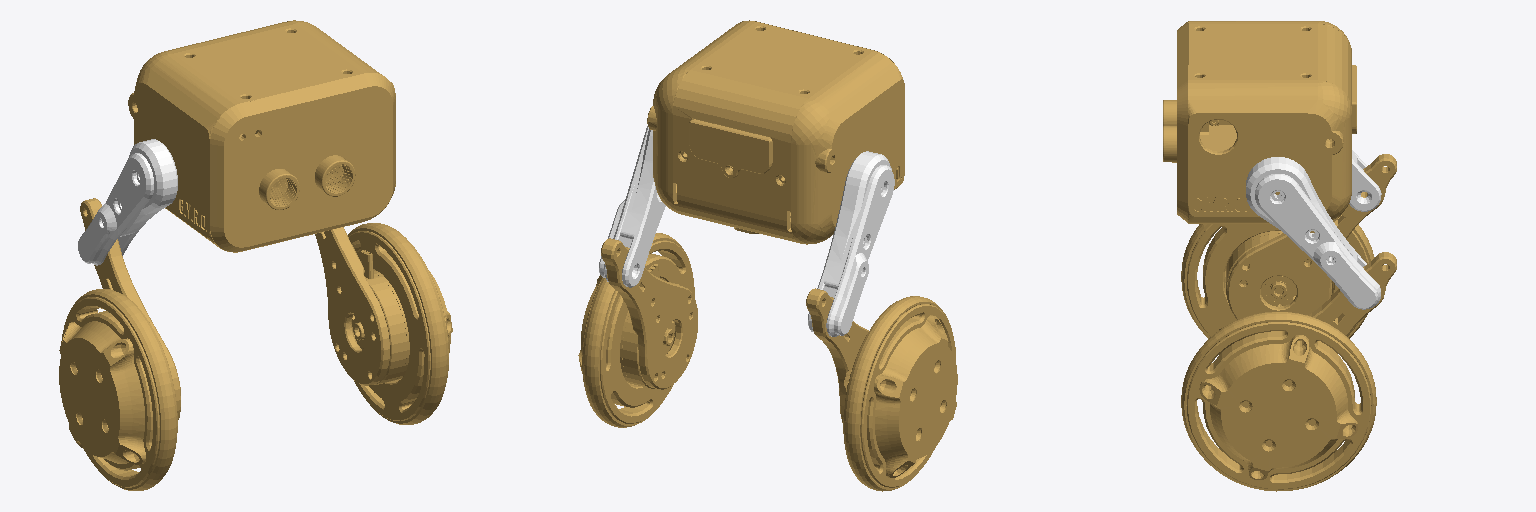
URDF robot description (final_assem2):
<?xml version="1.0" encoding="utf-8"?>
<!-- This URDF was automatically created by SolidWorks to URDF Exporter! Originally created by Stephen Brawner (brawner@gmail.com) 
     Commit Version: 1.6.0-4-g7f85cfe  Build Version: 1.6.7995.38578
     For more information, please see http://wiki.ros.org/sw_urdf_exporter -->
<robot
  name="final_assem2">
  <link
    name="base_link">
    <inertial>
      <origin
        xyz="-0.000139721801499459 -0.00891990633481813 0.0545743288252821"
        rpy="0 0 0" />
      <mass
        value="0.0001" />
      <inertia
        ixx="0.000101651221165473"
        ixy="-5.03027315623083E-07"
        ixz="-3.1472039365138E-07"
        iyy="8.30155851187896E-05"
        iyz="-1.16211310714731E-07"
        izz="7.63971955831707E-05" />
    </inertial>
    <visual>
      <origin
        xyz="0 0 0"
        rpy="0 0 0" />
      <geometry>
        <mesh
          filename="package://final_assem2/meshes/base_link.STL" />
      </geometry>
      <material
        name="">
        <color
          rgba="0.831372549019608 0.690196078431373 0.411764705882353 1" />
      </material>
    </visual>
    <collision>
      <origin
        xyz="0 0 0"
        rpy="0 0 0" />
      <geometry>
        <mesh
          filename="package://final_assem2/meshes/base_link.STL" />
      </geometry>
    </collision>
  </link>
  
  
  
  
  <link
    name="left_white_link">
    <inertial>
      <origin
        xyz="-0.00351284827896975 0.014089389436349 -0.0175712720648845"
        rpy="0 0 0" />
      <mass
        value="0.0001" />
      <inertia
        ixx="6.1721720458214E-06"
        ixy="4.6117482237348E-08"
        ixz="-5.94751872255315E-08"
        iyy="3.72985141415E-06"
        iyz="2.54897330664247E-06"
        izz="2.60947543834273E-06" />
    </inertial>
    <visual>
      <origin
        xyz="0 0 0"
        rpy="0 0 0" />
      <geometry>
        <mesh
          filename="package://final_assem2/meshes/left_white_link.STL" />
      </geometry>
      <material
        name="">
        <color
          rgba="1 1 1 1" />
      </material>
    </visual>
    <collision>
      <origin
        xyz="0 0 0"
        rpy="0 0 0" />
      <geometry>
        <mesh
          filename="package://final_assem2/meshes/left_white_link.STL" />
      </geometry>
    </collision>
  </link>
  <joint
    name="left_white_top_joint"
    type="revolute">
    <origin
      xyz="0.054451 -0.00061239 0.048645"
      rpy="0 0 0" />
    <parent
      link="base_link" />
    <child
      link="left_white_link" />
    <axis
      xyz="1 0 0" />
    <limit
      lower="-1.5708"
      upper="1.5708"
      effort="1000"
      velocity="1" />
  </joint>
  <link
    name="left_lower_leg">
    <inertial>
      <origin
        xyz="0.00231170012266655 -0.0227052632231051 -0.0282250918724002"
        rpy="0 0 0" />
      <mass
        value="0.0001" />
      <inertia
        ixx="9.0007542462057E-06"
        ixy="-8.52452741139558E-08"
        ixz="-1.12616251474775E-07"
        iyy="5.41600205355566E-06"
        iyz="-3.44596894822395E-06"
        izz="3.64095364398878E-06" />
    </inertial>
    <visual>
      <origin
        xyz="0 0 0"
        rpy="0 0 0" />
      <geometry>
        <mesh
          filename="package://final_assem2/meshes/left_lower_leg.STL" />
      </geometry>
      <material
        name="">
        <color
          rgba="0.831372549019608 0.690196078431373 0.411764705882353 1" />
      </material>
    </visual>
    <collision>
      <origin
        xyz="0 0 0"
        rpy="0 0 0" />
      <geometry>
        <mesh
          filename="package://final_assem2/meshes/left_lower_leg.STL" />
      </geometry>
    </collision>
  </link>
  <joint
    name="left_white_bottom_joint"
    type="revolute">
    <origin
      xyz="-0.007 0.037419 -0.046903"
      rpy="0 0 0" />
    <parent
      link="left_white_link" />
    <child
      link="left_lower_leg" />
    <axis
      xyz="1 0 0" />
    <limit
      lower="-1.5708"
      upper="1.5708"
      effort="1000"
      velocity="1" />
  </joint>
  <link
    name="left_wheel">
    <inertial>
      <origin
        xyz="0.0163975042440271 1.62206759338895E-06 1.44651305899607E-05"
        rpy="0 0 0" />
      <mass
        value="2.5" />
      <inertia
        ixx="5.18918517052579E-05"
        ixy="1.18719486965528E-09"
        ixz="1.02936141483569E-08"
        iyy="2.85933477088047E-05"
        iyz="-7.16321375599296E-09"
        izz="2.85332892566743E-05" />
    </inertial>
    <visual>
      <origin
        xyz="0 0 0"
        rpy="0 0 0" />
      <geometry>
        <mesh
          filename="package://final_assem2/meshes/left_wheel.STL" />
      </geometry>
      <material
        name="">
        <color
          rgba="0.831372549019608 0.690196078431373 0.411764705882353 1" />
      </material>
    </visual>
    <collision>
      <origin
        xyz="0 0 0"
        rpy="0 0 0" />
      <geometry>
        <mesh
          filename="package://final_assem2/meshes/left_wheel.STL" />
      </geometry>
    </collision>
  </link>
  <joint
    name="left_wheel_joint"
    type="continuous">
    <origin
      xyz="0.0012149 -0.03698 -0.047249"
      rpy="0 0 0" />
    <parent
      link="left_lower_leg" />
    <child
      link="left_wheel" />
    <axis
      xyz="1 0 0" />
    <limit
      effort="1000"
      velocity="20" />
  </joint>
  
  
  
  
  <link
    name="right_white_link">
    <inertial>
      <origin
        xyz="0.00351284814097716 0.0140893887999058 -0.0175712711517945"
        rpy="0 0 0" />
      <mass
        value="0.0001" />
      <inertia
        ixx="6.17217171245867E-06"
        ixy="-4.61174422768703E-08"
        ixz="5.94752484317574E-08"
        iyy="3.729851486379E-06"
        iyz="2.54897310999381E-06"
        izz="2.60947501858956E-06" />
    </inertial>
    <visual>
      <origin
        xyz="0 0 0"
        rpy="0 0 0" />
      <geometry>
        <mesh
          filename="package://final_assem2/meshes/right_white_link.STL" />
      </geometry>
      <material
        name="">
        <color
          rgba="1 1 1 1" />
      </material>
    </visual>
    <collision>
      <origin
        xyz="0 0 0"
        rpy="0 0 0" />
      <geometry>
        <mesh
          filename="package://final_assem2/meshes/right_white_link.STL" />
      </geometry>
    </collision>
  </link>
  <joint
    name="right_white_top_joint"
    type="revolute">
    <origin
      xyz="-0.054549 -0.00061239 0.048645"
      rpy="0 0 0" />
    <parent
      link="base_link" />
    <child
      link="right_white_link" />
    <axis
      xyz="1 0 0" />
    <limit
      lower="-1.5708"
      upper="1.5708"
      effort="1000"
      velocity="1" />
  </joint>
  <link
    name="right_lower_leg">
    <inertial>
      <origin
        xyz="0.00343829959902858 -0.0227052608505364 -0.0282250952504051"
        rpy="0 0 0" />
      <mass
        value="0.0001" />
      <inertia
        ixx="9.00075447641487E-06"
        ixy="8.52453919454247E-08"
        ixz="1.12616172038318E-07"
        iyy="5.41600209857497E-06"
        iyz="-3.44596897863516E-06"
        izz="3.64095387833541E-06" />
    </inertial>
    <visual>
      <origin
        xyz="0 0 0"
        rpy="0 0 0" />
      <geometry>
        <mesh
          filename="package://final_assem2/meshes/right_lower_leg.STL" />
      </geometry>
      <material
        name="">
        <color
          rgba="0.831372549019608 0.690196078431373 0.411764705882353 1" />
      </material>
    </visual>
    <collision>
      <origin
        xyz="0 0 0"
        rpy="0 0 0" />
      <geometry>
        <mesh
          filename="package://final_assem2/meshes/right_lower_leg.STL" />
      </geometry>
    </collision>
  </link>
  <joint
    name="right_white_bottom_joint"
    type="revolute">
    <origin
      xyz="0.00125 0.037419 -0.046903"
      rpy="0 0 0" />
    <parent
      link="right_white_link" />
    <child
      link="right_lower_leg" />
    <axis
      xyz="1 0 0" />
    <limit
      lower="-1.5708"
      upper="1.5708"
      effort="1000"
      velocity="1" />
  </joint>
  <link
    name="right_wheel">
    <inertial>
      <origin
        xyz="-0.0146672527215705 1.25422636613262E-05 7.36024777815703E-06"
        rpy="0 0 0" />
      <mass
        value="2.5" />
      <inertia
        ixx="5.18920350674668E-05"
        ixy="-8.93025684542342E-09"
        ixz="-5.24069237927273E-09"
        iyy="2.85481495298968E-05"
        iyz="-2.68320179417243E-08"
        izz="2.85786707981383E-05" />
    </inertial>
    <visual>
      <origin
        xyz="0 0 0"
        rpy="0 0 0" />
      <geometry>
        <mesh
          filename="package://final_assem2/meshes/right_wheel.STL" />
      </geometry>
      <material
        name="">
        <color
          rgba="0.831372549019608 0.690196078431373 0.411764705882353 1" />
      </material>
    </visual>
    <collision>
      <origin
        xyz="0 0 0"
        rpy="0 0 0" />
      <geometry>
        <mesh
          filename="package://final_assem2/meshes/right_wheel.STL" />
      </geometry>
    </collision>
  </link>
  <joint
    name="right_wheel_joint"
    type="continuous">
    <origin
      xyz="0.0028252 -0.03698 -0.047249"
      rpy="0 0 0" />
    <parent
      link="right_lower_leg" />
    <child
      link="right_wheel" />
    <axis
      xyz="1 0 0" />
    <limit
      effort="1000"
      velocity="20" />
  </joint>
  



  
  

  <!-- Fortress gz_ros2_control plugin -->
  <gazebo>
    <plugin filename="libgz_ros2_control-system.so"
            name="gz_ros2_control::GazeboSimROS2ControlPlugin">
      <parameters>/home/pranav/ros2_ws/install/final_assem2/share/final_assem2/config/controllers.yaml</parameters>
    </plugin>
  </gazebo>

  <!-- Wheel friction -->
  <gazebo reference="left_wheel"><mu1>0.9</mu1><mu2>0.9</mu2><kp>500000</kp><kd>10</kd></gazebo>
  <gazebo reference="right_wheel"><mu1>0.9</mu1><mu2>0.9</mu2><kp>500000</kp><kd>10</kd></gazebo>

  <!-- ========== IMU Sensor (Fortress) ========== -->
  <link name="imu_link">
    <inertial>
      <mass value="0.0001"/>
      <origin xyz="0 0 0" rpy="0 0 0"/>
      <inertia ixx="0.01" ixy="0" ixz="0" iyy="0.01" iyz="0" izz="0.01"/>
    </inertial>
  </link>
  <joint name="imu_joint" type="fixed">
    <parent link="base_link"/>
    <child link="imu_link"/>
    <origin xyz="0 0 0.05" rpy="0 0 0"/>
  </joint>
  <gazebo reference="imu_link">
    <sensor name="imu_sensor" type="imu">
      <always_on>true</always_on>
      <update_rate>100</update_rate>
      <imu>
        <angular_velocity>
          <x><noise type="gaussian"><mean>0</mean><stddev>0.002</stddev></noise></x>
          <y><noise type="gaussian"><mean>0</mean><stddev>0.002</stddev></noise></y>
          <z><noise type="gaussian"><mean>0</mean><stddev>0.002</stddev></noise></z>
        </angular_velocity>
        <linear_acceleration>
          <x><noise type="gaussian"><mean>0</mean><stddev>0.02</stddev></noise></x>
          <y><noise type="gaussian"><mean>0</mean><stddev>0.02</stddev></noise></y>
          <z><noise type="gaussian"><mean>0</mean><stddev>0.02</stddev></noise></z>
        </linear_acceleration>
      </imu>
      <topic>/imu/data</topic>
      <gz_frame_id>imu_link</gz_frame_id>
    </sensor>
  </gazebo>

  <!-- ========== ros2_control (6 joints only) ========== -->
  <ros2_control name="GazeboSystem" type="system">
    <hardware>
      <plugin>gz_ros2_control/GazeboSimSystem</plugin>
    </hardware>

    <joint name="left_white_top_joint">
      <command_interface name="position">
        <param name="min">-1.5708</param>
        <param name="max">1.5708</param>
      </command_interface>
      <state_interface name="position"/>
      <state_interface name="velocity"/>
    </joint>

    <joint name="left_white_bottom_joint">
      <command_interface name="position">
        <param name="min">-1.5708</param>
        <param name="max">1.5708</param>
      </command_interface>
      <state_interface name="position"/>
      <state_interface name="velocity"/>
    </joint>

    <joint name="right_white_top_joint">
      <command_interface name="position">
        <param name="min">-1.5708</param>
        <param name="max">1.5708</param>
      </command_interface>
      <state_interface name="position"/>
      <state_interface name="velocity"/>
    </joint>

    <joint name="right_white_bottom_joint">
      <command_interface name="position">
        <param name="min">-1.5708</param>
        <param name="max">1.5708</param>
      </command_interface>
      <state_interface name="position"/>
      <state_interface name="velocity"/>
    </joint>

    <joint name="left_wheel_joint">
      <command_interface name="velocity">
        <param name="min">-5</param>
        <param name="max">20</param>
      </command_interface>
      <state_interface name="position"/>
      <state_interface name="velocity"/>
    </joint>

    <joint name="right_wheel_joint">
      <command_interface name="velocity">
        <param name="min">-5</param>
        <param name="max">20</param>
      </command_interface>
      <state_interface name="position"/>
      <state_interface name="velocity"/>
    </joint>

  </ros2_control>

  </robot>

--- What the picture shows (computed from the rendered views, not written in the file) ---
3 views of the same robot in one strip: view 1: azimuth 30°, elevation 25°; view 2: azimuth 150°, elevation 25°; view 3: azimuth 270°, elevation 25° (orthographic).
Model final_assem2 with 8 links and 7 joints (4 revolute, 2 continuous, 1 fixed), rooted at base_link, posed all joints at 0.
Links seen in each view (by area): view 1: base_link, right_wheel, left_wheel, left_lower_leg, right_white_link, right_lower_leg; view 2: base_link, right_wheel, left_wheel, right_white_link, left_lower_leg, left_white_link, right_lower_leg; view 3: base_link, left_wheel, left_white_link, right_wheel, right_lower_leg, left_lower_leg, right_white_link.
Link boxes in pixels (<box>): base_link: <box>128,20,395,252</box>; right_wheel: <box>59,289,177,490</box>; left_wheel: <box>348,223,452,424</box>; left_lower_leg: <box>315,227,389,385</box>; right_white_link: <box>78,139,177,265</box>; right_lower_leg: <box>80,198,180,419</box>; base_link: <box>647,20,904,244</box>; right_wheel: <box>843,296,957,491</box>; left_wheel: <box>578,233,694,427</box>; right_white_link: <box>808,151,894,336</box>; left_lower_leg: <box>601,238,697,389</box>; left_white_link: <box>599,126,665,287</box>; right_lower_leg: <box>806,288,868,422</box>; base_link: <box>1163,21,1356,223</box>; left_wheel: <box>1181,312,1376,491</box>; left_white_link: <box>1246,157,1380,309</box>; right_wheel: <box>1181,215,1374,338</box>; right_lower_leg: <box>1227,154,1396,319</box>; left_lower_leg: <box>1308,252,1396,335</box>; right_white_link: <box>1349,150,1381,211</box>.
Size in the robot's own frame: 0.1564 by 0.1015 by 0.1796 metres.
Meshes: 7 distinct files referenced, 7 mesh visuals loaded (7 binary STL).
